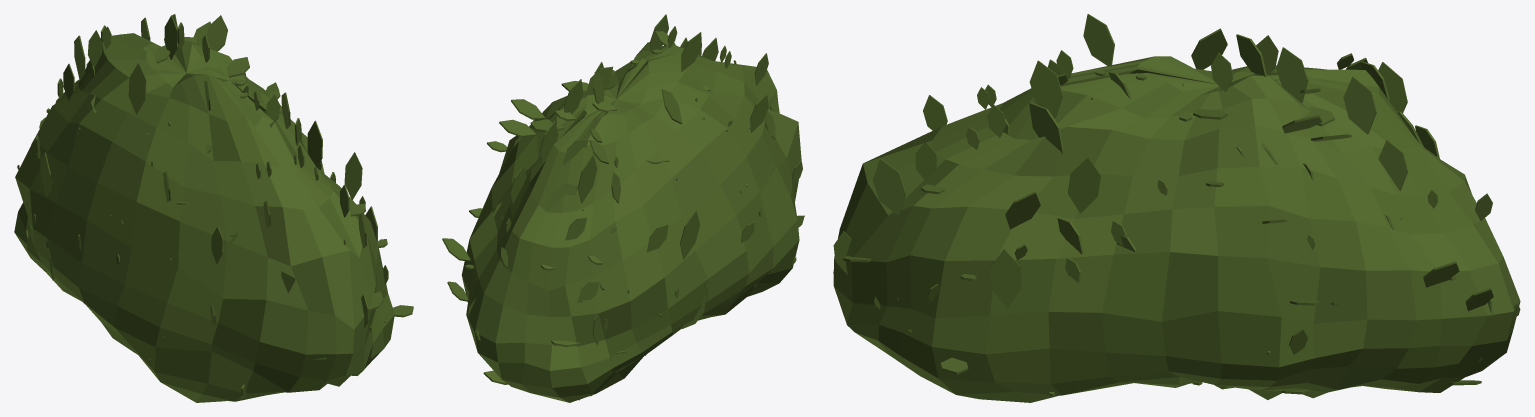
The model's file is Bush2.fbx.
The picture shows the model from 3 angles, left to right: view 1: azimuth 30°, elevation 25°; view 2: azimuth 150°, elevation 25°; view 3: azimuth 270°, elevation 25°; orthographic projection. The views are drawn at different scales.
Visible parts, largest first — view 1: Sphere.007; view 2: Sphere.007; view 3: Sphere.007.
Boxes of the visible parts, x1=… form: Sphere.007: x1=14, y1=14, x2=413, y2=402; Sphere.007: x1=442, y1=14, x2=804, y2=402; Sphere.007: x1=833, y1=14, x2=1520, y2=402.
Bounding box in the file's own units: 412 × 467 × 809.
